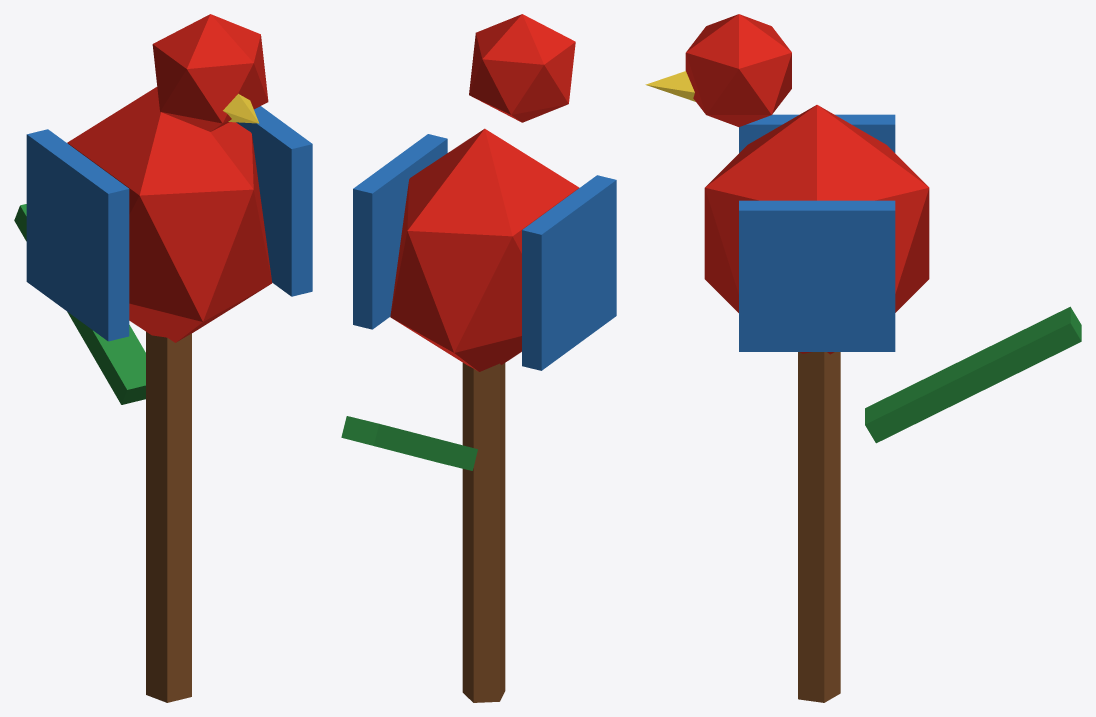
File: parrot.glb
The picture shows the model from 3 angles, left to right: view 1: azimuth 30°, elevation 25°; view 2: azimuth 150°, elevation 25°; view 3: azimuth 270°, elevation 25°; orthographic projection. The views are drawn at different scales.
Visible parts, largest first — view 1: parrot; view 2: parrot; view 3: parrot.
Part boxes in pixels (x1,y1,x2,y2): parrot: (14, 14, 312, 702); parrot: (341, 14, 616, 702); parrot: (645, 14, 1081, 702).
Bounding box in the file's own units: 0.29 × 0.96 × 0.5588.
